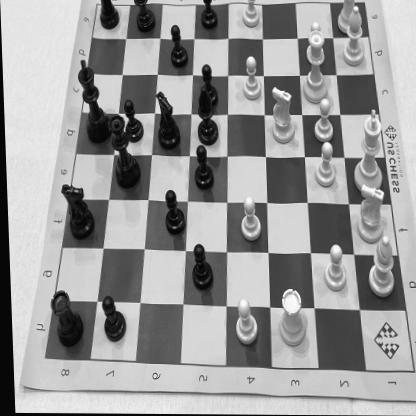black-bishop: (194, 86, 223, 150), (132, 0, 156, 34)
black-king: (75, 58, 110, 146)
black-knight: (58, 184, 92, 241), (154, 90, 180, 152)
black-pawn: (188, 240, 214, 292), (99, 293, 125, 343), (162, 188, 184, 238), (196, 64, 218, 112), (123, 99, 143, 146), (192, 144, 212, 191), (168, 24, 188, 70), (198, 0, 219, 31)
black-queen: (107, 114, 138, 189)
black-rook: (47, 288, 83, 350), (95, 0, 121, 33)
white-bishop: (364, 236, 396, 298), (340, 6, 366, 67)
white-king: (349, 108, 384, 195)
white-knight: (352, 183, 388, 242), (268, 85, 296, 146)
white-pawn: (232, 297, 258, 348), (321, 244, 346, 294), (238, 194, 262, 244), (312, 142, 338, 188), (310, 99, 334, 144), (240, 54, 262, 100), (304, 21, 324, 63), (240, 0, 262, 31)
white-queen: (298, 31, 332, 105)
white-rook: (274, 286, 306, 349), (336, 0, 359, 38)
